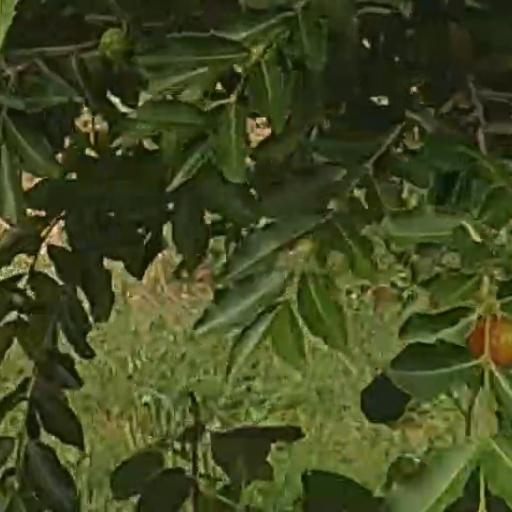acerola_vermelha: (469, 317, 512, 362)
